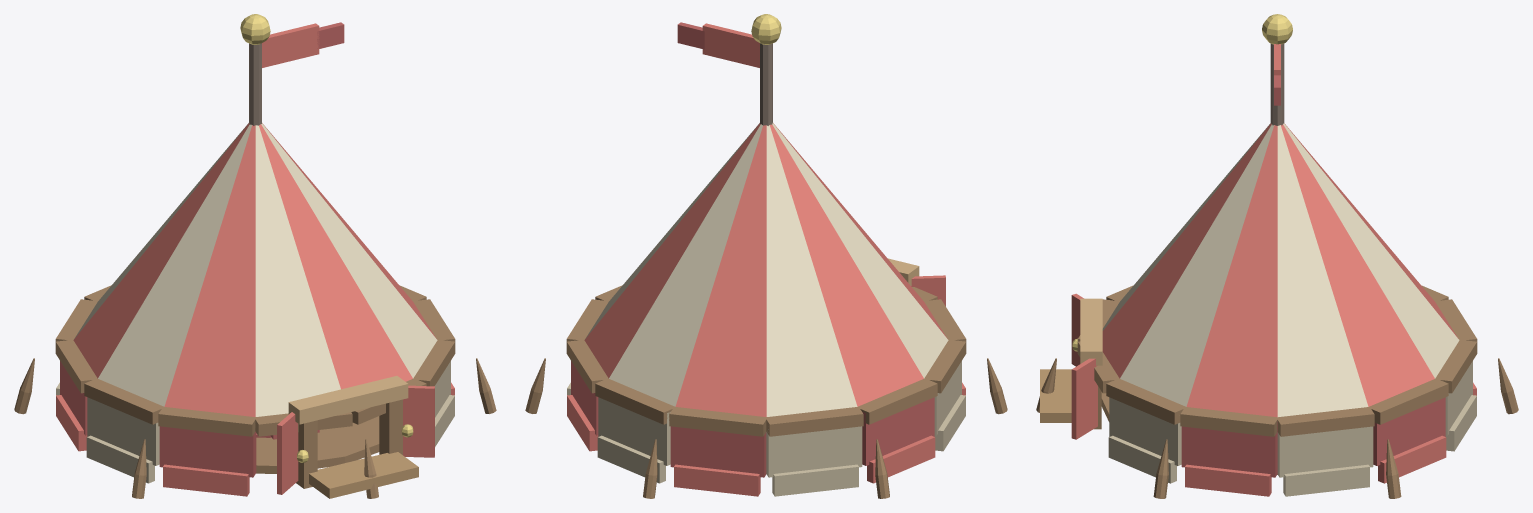
The model's file is ws_siege_tent_2.glb.
3 views of the same model, side by side, from view 1: azimuth 30°, elevation 25°; view 2: azimuth 150°, elevation 25°; view 3: azimuth 270°, elevation 25° (orthographic).
Visible parts, largest first — view 1: ws_siege_tent_2; view 2: ws_siege_tent_2; view 3: ws_siege_tent_2.
Part boxes in pixels (bbox=[...]): ws_siege_tent_2: bbox=[14, 14, 496, 498]; ws_siege_tent_2: bbox=[525, 14, 1007, 498]; ws_siege_tent_2: bbox=[1036, 14, 1518, 498].
Bounding box in the file's own units: 1.87 × 1.96 × 2.15.
